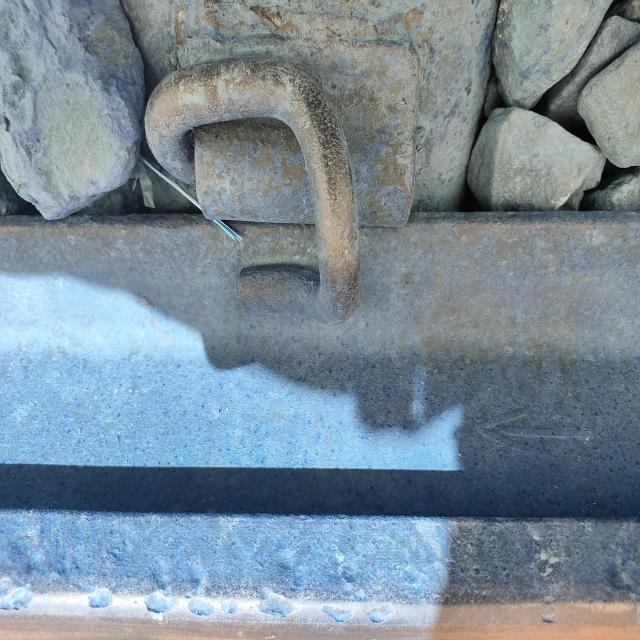Good Fasteners: (105, 43, 470, 370)
